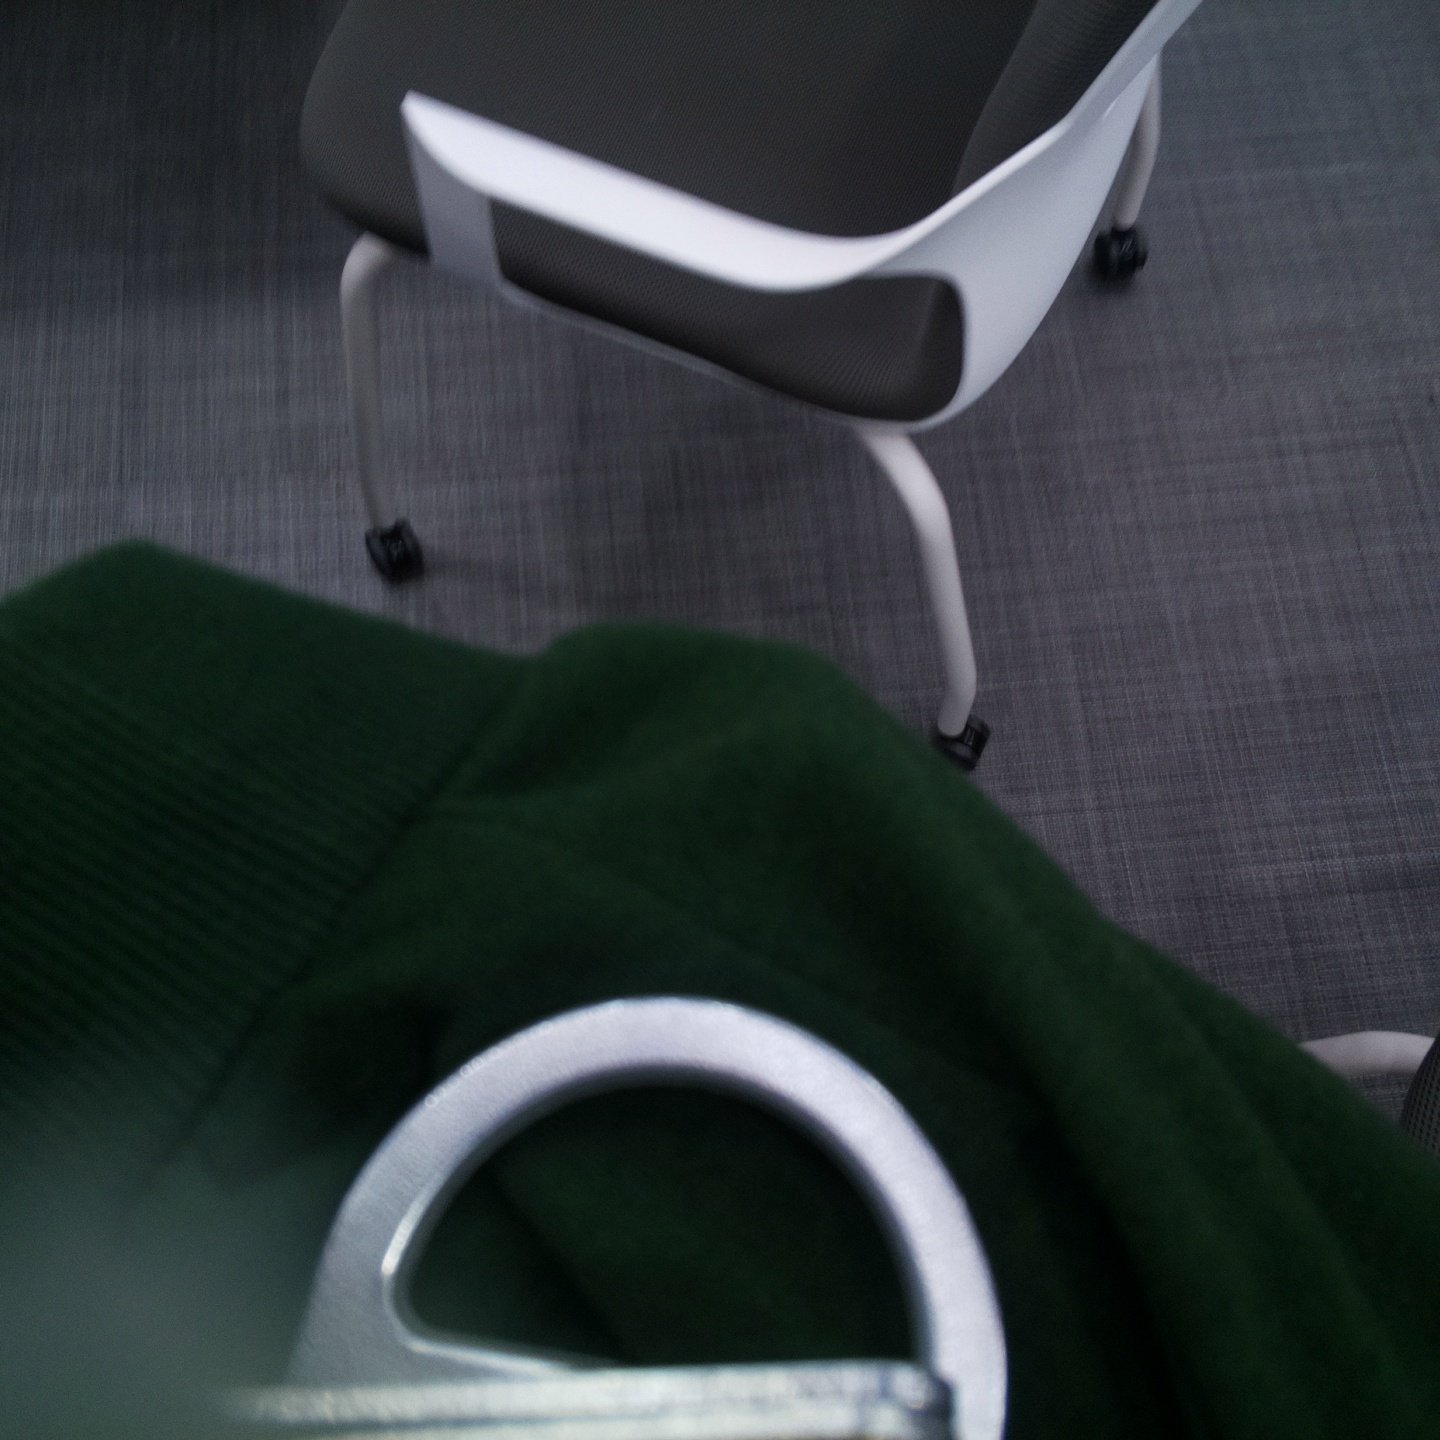UNSUCCESS: (281, 992, 1021, 1400)
